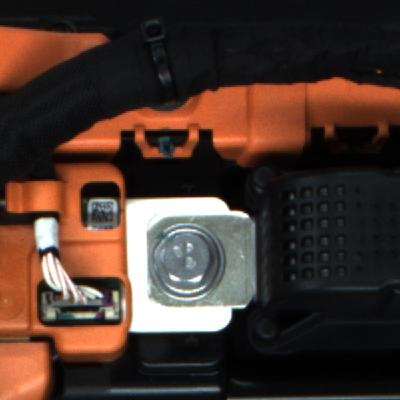nut_b: (143, 225, 231, 301)
